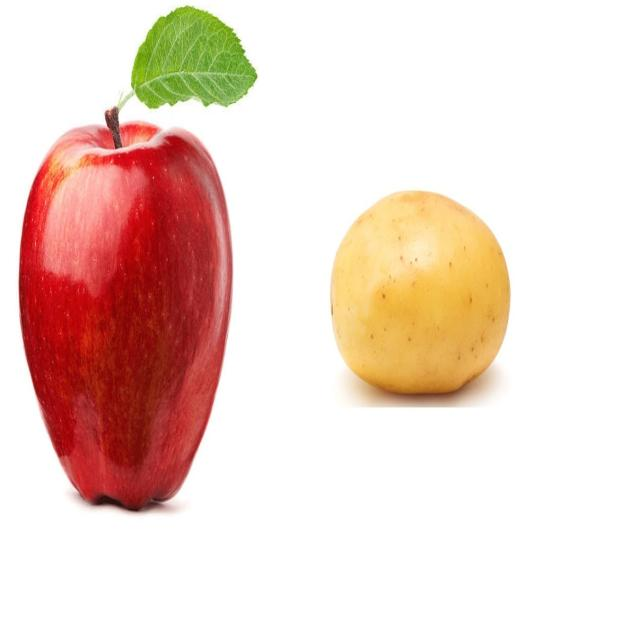potato: (331, 192, 510, 398)
